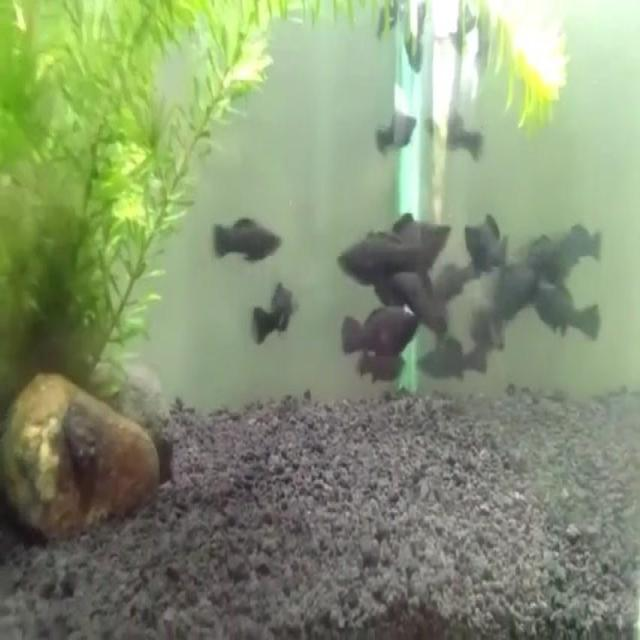PlatyFish: (331, 228, 428, 292), (336, 298, 432, 359), (206, 207, 282, 268), (248, 270, 300, 354), (367, 110, 423, 166)
